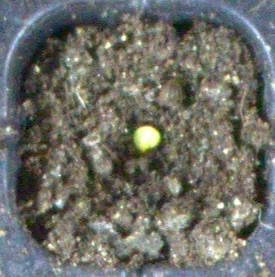pepper seed: (52, 49, 214, 200)
